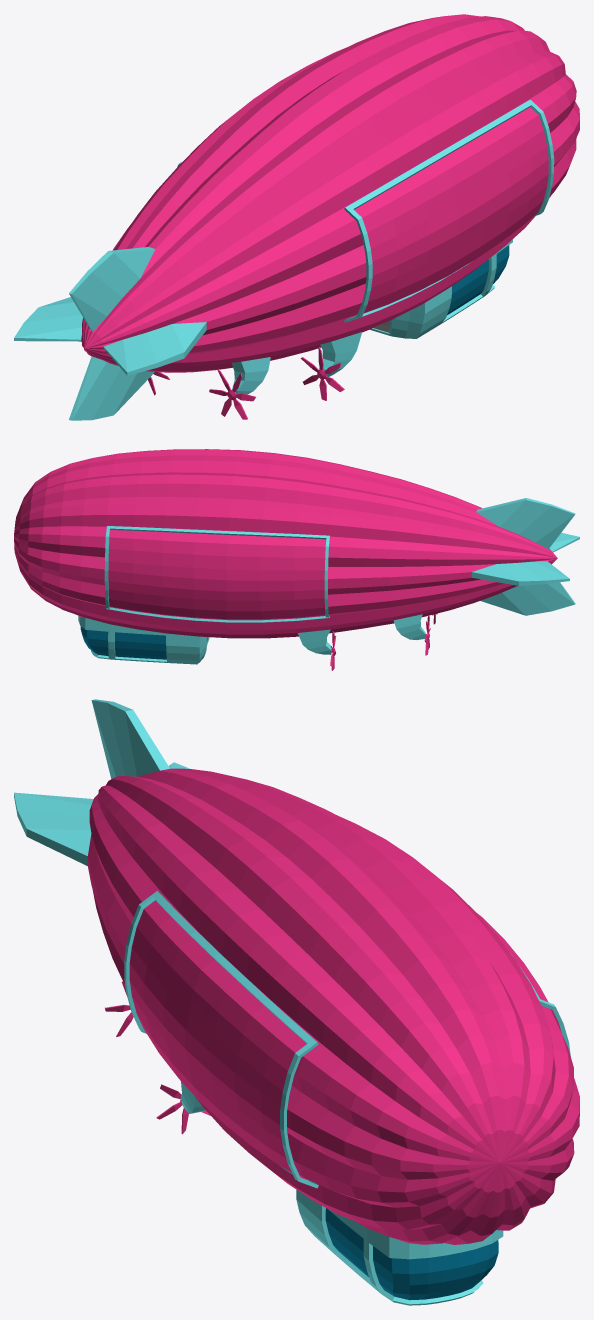
3 renders of one model, top to bottom at view 1: azimuth 30°, elevation 25°; view 2: azimuth 150°, elevation 25°; view 3: azimuth 270°, elevation 25°, orthographic. The views are drawn at different scales.
Visible parts, largest first — view 1: baloon, cube2, wings, cabin_1, cube, sper, propeller4, propeller2; view 2: baloon, cube2, wings, cabin_1, cube1, sper; view 3: baloon, cube2, cabin_1, wings, cube.
Part boxes in pixels (x1=…): baloon: x1=81, y1=14, x2=579, y2=372; cube2: x1=354, y1=107, x2=548, y2=316; wings: x1=14, y1=247, x2=206, y2=420; cabin_1: x1=369, y1=239, x2=512, y2=338; cube: x1=344, y1=99, x2=554, y2=322; sper: x1=231, y1=332, x2=361, y2=394; propeller4: x1=209, y1=369, x2=255, y2=419; propeller2: x1=300, y1=347, x2=344, y2=400; baloon: x1=14, y1=449, x2=557, y2=638; cube2: x1=108, y1=530, x2=326, y2=620; wings: x1=471, y1=498, x2=579, y2=615; cabin_1: x1=78, y1=616, x2=209, y2=664; cube1: x1=104, y1=526, x2=329, y2=622; sper: x1=297, y1=614, x2=425, y2=654; baloon: x1=87, y1=768, x2=579, y2=1244; cube2: x1=129, y1=900, x2=561, y2=1180; cabin_1: x1=296, y1=1190, x2=503, y2=1305; wings: x1=14, y1=699, x2=189, y2=865; cube: x1=124, y1=891, x2=318, y2=1188.
Bounding box in the file's own units: 7.24 × 2.87 × 4.28.
